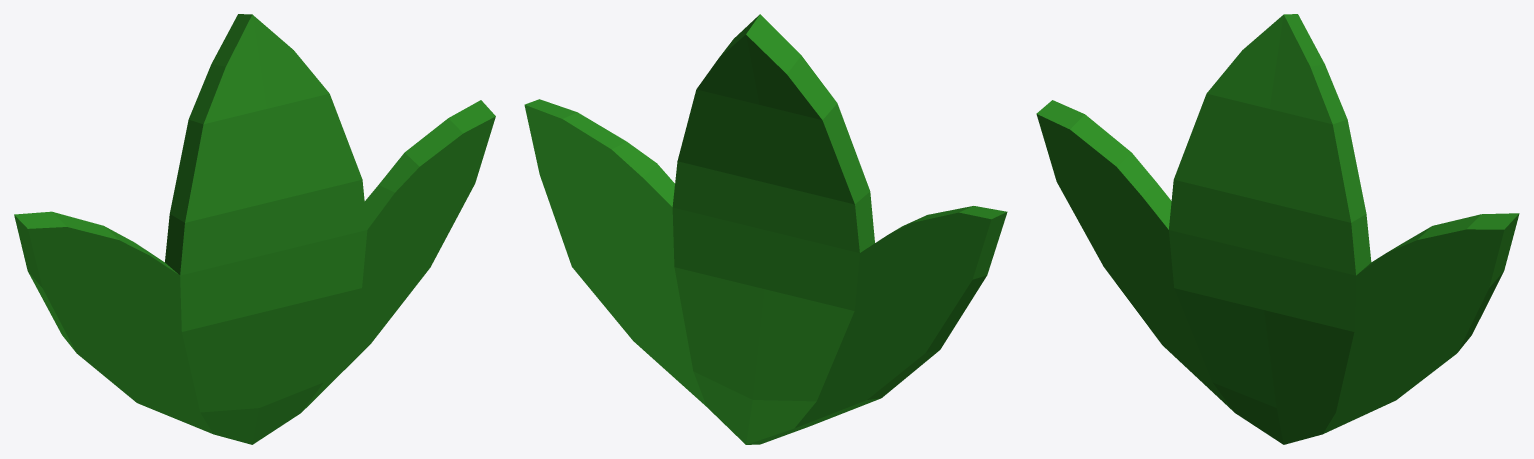
The model's file is Hoja2.fbx.
The picture shows the model from 3 angles, left to right: view 1: azimuth 30°, elevation 25°; view 2: azimuth 150°, elevation 25°; view 3: azimuth 330°, elevation 25°; orthographic projection.
Parts seen in each view (by area): view 1: HojaBase3_Verde; view 2: HojaBase3_Verde; view 3: HojaBase3_Verde.
Boxes of the visible parts, x1,y1,x2,y2 form: HojaBase3_Verde: [14, 14, 495, 444]; HojaBase3_Verde: [524, 14, 1007, 444]; HojaBase3_Verde: [1036, 14, 1519, 444].
Size of the model in its own units: 11.14 by 9.79 by 1.47.
